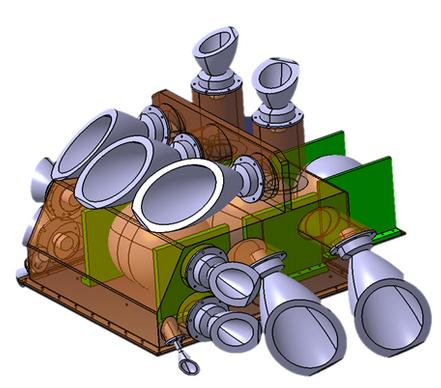thruster: (256, 269, 350, 379), (345, 251, 435, 360), (129, 155, 245, 236), (71, 133, 183, 212), (48, 107, 152, 185), (249, 54, 305, 110), (189, 22, 242, 79), (207, 258, 265, 309), (204, 309, 266, 356), (27, 154, 55, 206), (176, 349, 203, 379)
